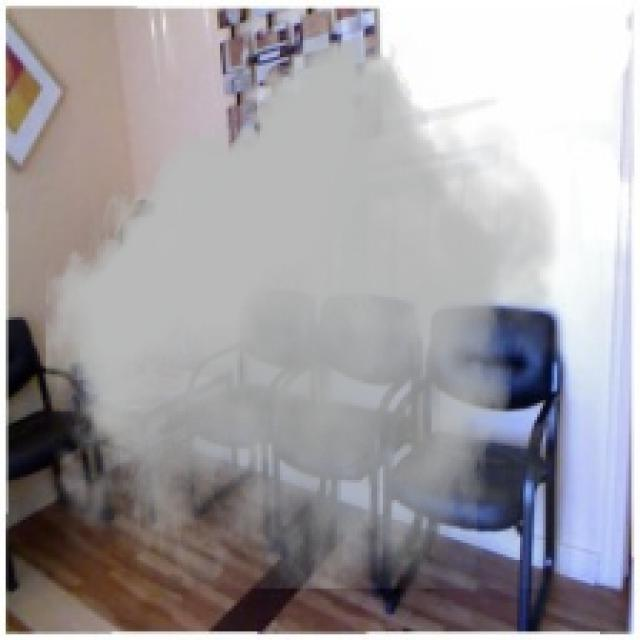smoke: (37, 34, 572, 589)
